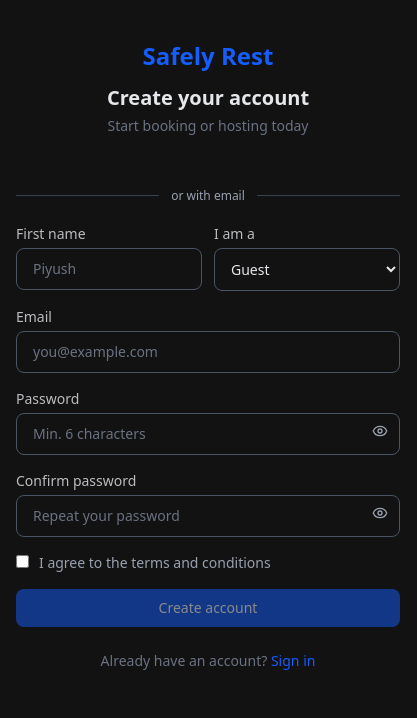
Test: Signup page › should show error when password is too short
Click the checkbox at (22, 561), box [16,554,29,568]
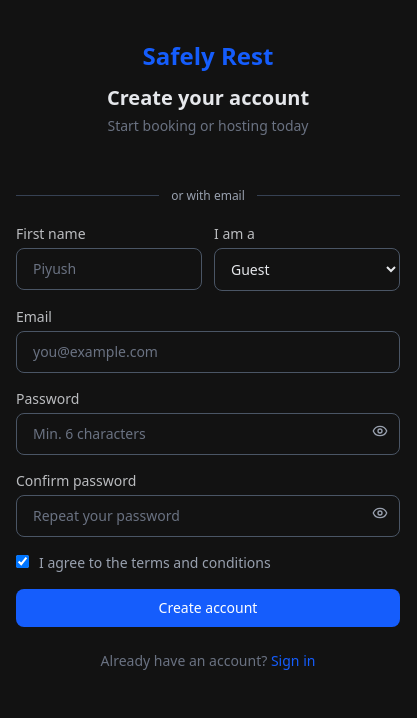
Type "123" into the password field with placeholder "Min. 6 characters" at (208, 434), box [16,412,400,454]
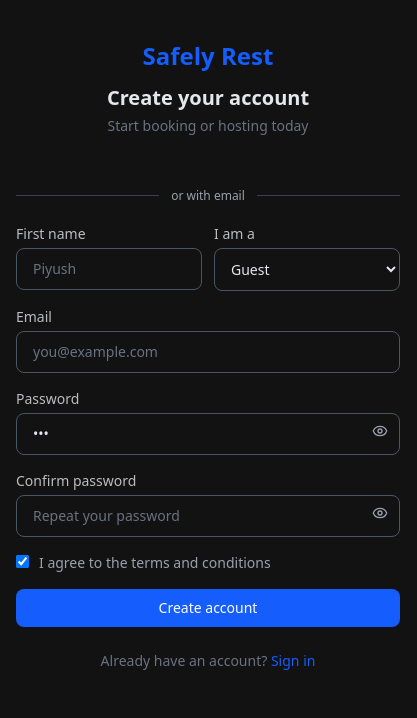
Type "123" into the password field with placeholder "Repeat your password" at (208, 516), box [16,494,400,536]
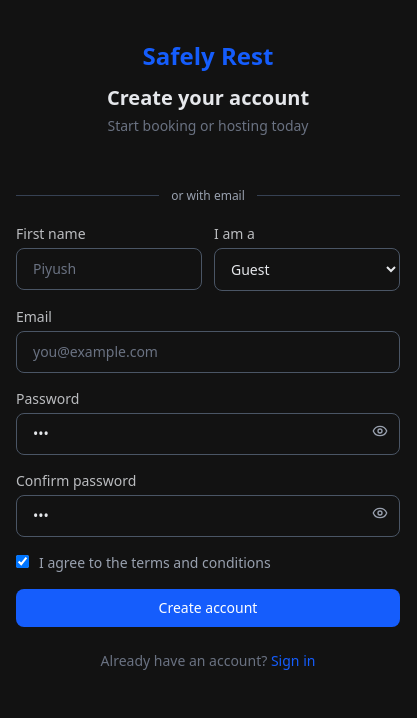
Submit the form named "create account", box [16,224,400,626]
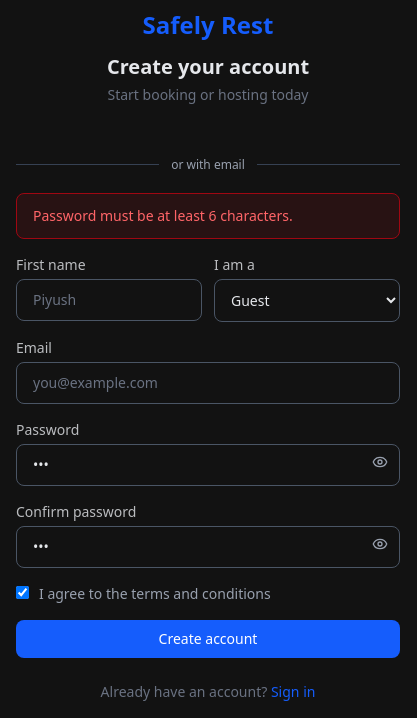
Check: the text "Password must be at least 6 characters." is shown, box [16,192,400,238]
